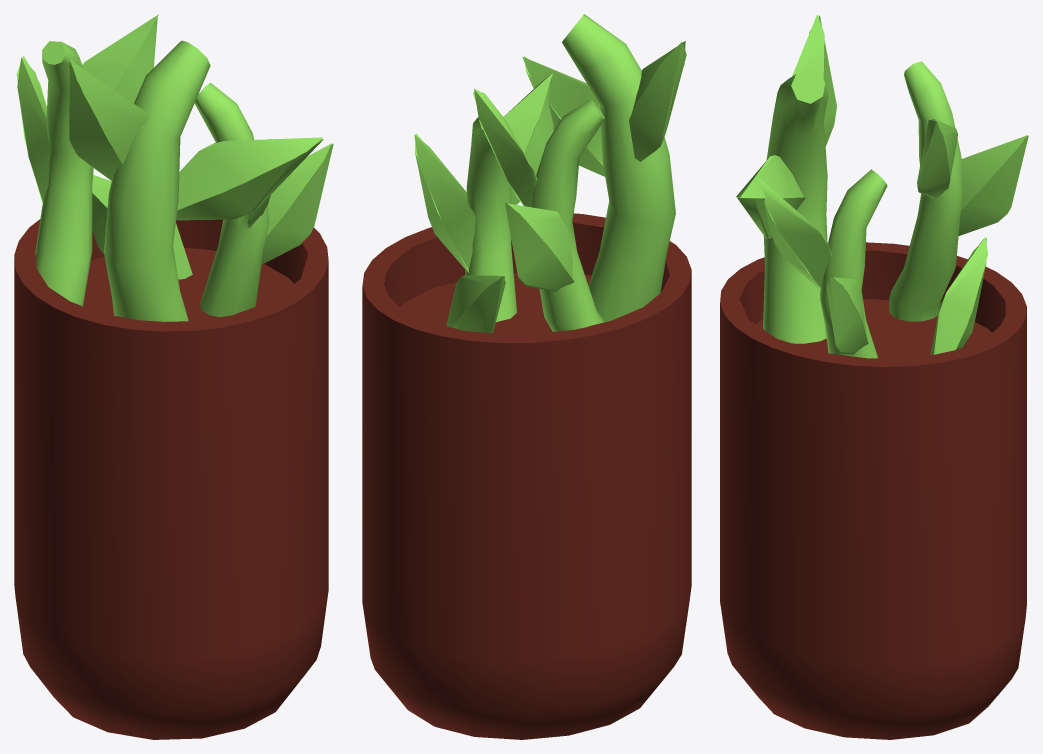
Rendered from zhiwu4.fbx.
3 renders of one model, left to right at view 1: azimuth 30°, elevation 25°; view 2: azimuth 150°, elevation 25°; view 3: azimuth 270°, elevation 25°, orthographic. The views are drawn at different scales.
Visible parts, largest first — view 1: polySurface84, polySurface85, polySurface97, polySurface92, polySurface86, polySurface87, polySurface88, polySurface89, polySurface98, polySurface96, polySurface100, polySurface95 (+3 smaller); view 2: polySurface84, polySurface85, polySurface97, polySurface92, polySurface89, polySurface95, polySurface99, polySurface100, polySurface86, polySurface98, polySurface93, polySurface102 (+5 smaller); view 3: polySurface84, polySurface85, polySurface97, polySurface92, polySurface103, polySurface93, polySurface99, polySurface96, polySurface101, polySurface98, polySurface86, polySurface88 (+5 smaller).
Part boxes in pixels (x1,y1,x2,y2): polySurface84: (14,219,328,739); polySurface85: (104,40,210,321); polySurface97: (35,41,93,306); polySurface92: (194,82,269,317); polySurface86: (177,137,322,210); polySurface87: (176,139,323,220); polySurface88: (69,59,150,164); polySurface89: (69,58,121,180); polySurface98: (17,57,50,201); polySurface96: (261,143,333,264); polySurface100: (82,14,158,89); polySurface95: (266,143,332,236); polySurface84: (362,213,691,739); polySurface85: (562,14,675,321); polySurface97: (530,99,604,331); polySurface92: (465,117,516,322); polySurface89: (629,42,686,161); polySurface95: (414,134,475,269); polySurface99: (505,202,574,291); polySurface100: (474,89,537,206); polySurface86: (522,56,602,163); polySurface98: (507,203,572,279); polySurface93: (503,73,552,152); polySurface102: (452,277,505,333); polySurface84: (720,242,1026,739); polySurface85: (763,69,828,343); polySurface97: (889,61,964,321); polySurface92: (820,169,887,358); polySurface103: (930,237,987,355); polySurface93: (758,178,831,287); polySurface99: (958,135,1028,235); polySurface96: (826,277,868,354); polySurface101: (917,120,950,198); polySurface98: (961,135,1027,209); polySurface86: (736,155,803,198); polySurface88: (792,14,824,79).
Size of the model in its own units: 56.54 by 133 by 59.17.
